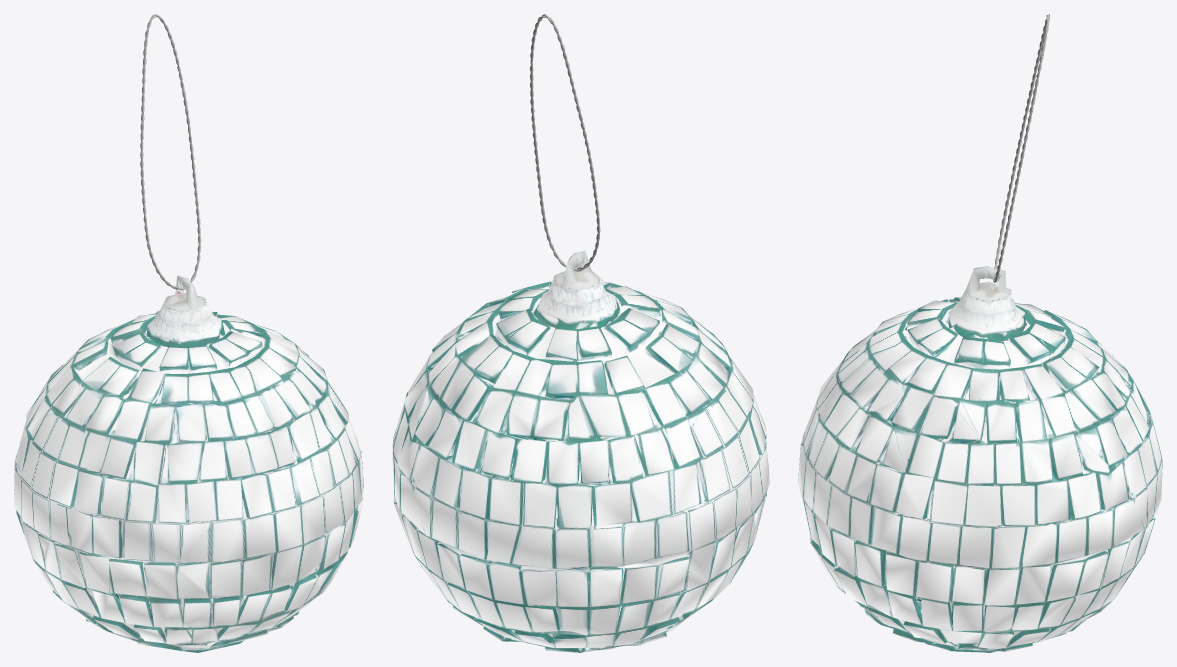
The model's file is Disco_Ball_L.glb.
The picture shows the model from 3 angles, left to right: view 1: azimuth 30°, elevation 25°; view 2: azimuth 150°, elevation 25°; view 3: azimuth 270°, elevation 25°; orthographic projection. The views are drawn at different scales.
Parts seen in each view (by area): view 1: Mesh_0, GN Instance; view 2: Mesh_0, GN Instance; view 3: Mesh_0, GN Instance.
Boxes of the visible parts, bbox=[...] form: Mesh_0: bbox=[14, 275, 363, 652]; GN Instance: bbox=[140, 14, 201, 289]; Mesh_0: bbox=[392, 250, 769, 652]; GN Instance: bbox=[530, 14, 600, 271]; Mesh_0: bbox=[798, 266, 1162, 652]; GN Instance: bbox=[993, 14, 1049, 282].
Bounding box in the file's own units: 0.0615 × 0.1169 × 0.062.
2 materials, 1 textured.
